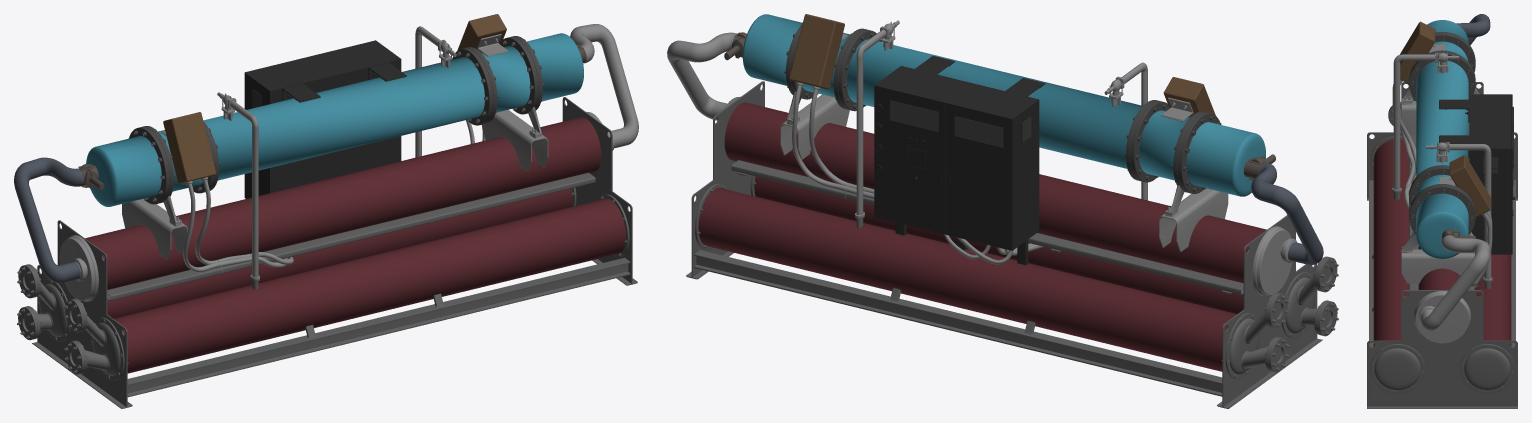
File: 3D-Chiller-0.1.1.glb
The picture shows the model from 3 angles, left to right: view 1: azimuth 30°, elevation 25°; view 2: azimuth 150°, elevation 25°; view 3: azimuth 270°, elevation 25°; orthographic projection. The views are drawn at different scales.
Visible parts, largest first — view 1: air-conditioner-child; view 2: air-conditioner-child; view 3: air-conditioner-child.
Boxes of the visible parts, x1,y1,x2,y2 form: air-conditioner-child: [14, 14, 638, 408]; air-conditioner-child: [667, 14, 1338, 408]; air-conditioner-child: [1367, 14, 1517, 408].
Size of the model in its own units: 7.36 by 2.9 by 1.9.
